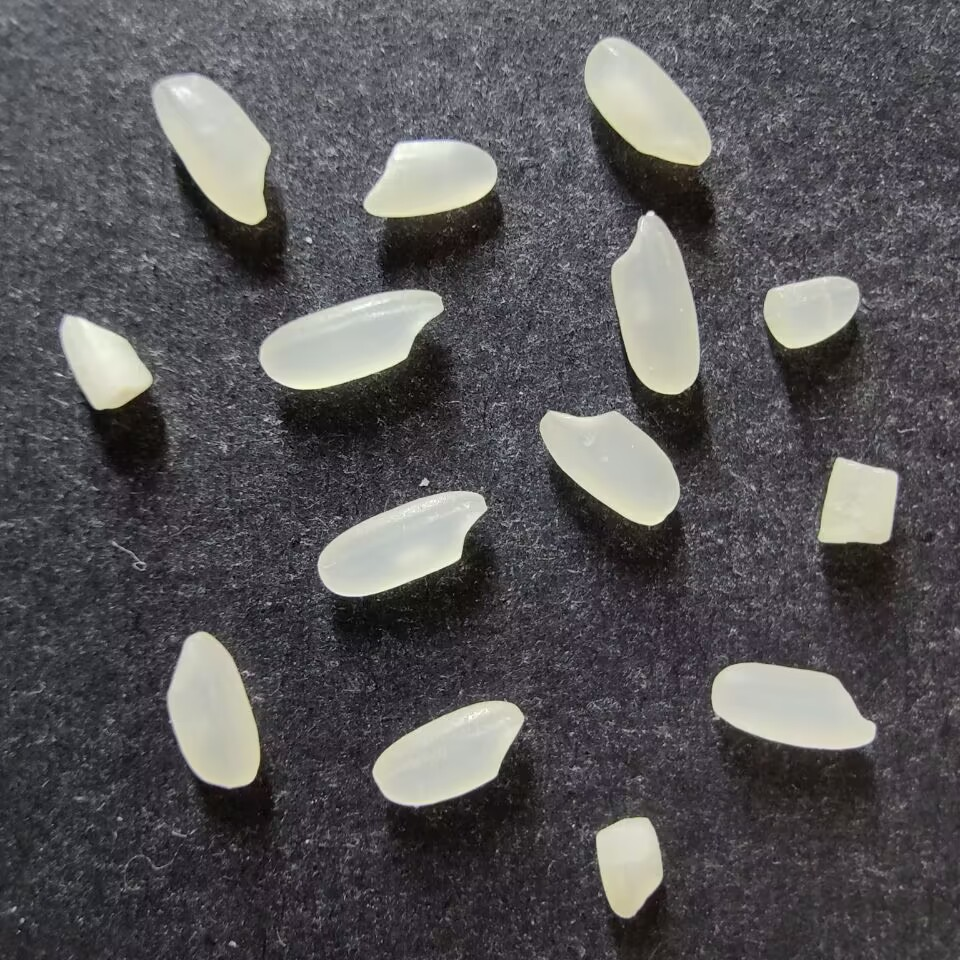broken: (59, 314, 152, 410), (594, 816, 664, 919), (816, 458, 899, 544), (762, 276, 859, 348)
rice: (257, 290, 444, 390), (316, 489, 487, 597), (151, 73, 271, 225), (609, 212, 700, 395), (538, 411, 681, 526), (371, 699, 523, 807), (582, 38, 711, 165), (165, 630, 261, 788), (710, 662, 877, 749), (362, 140, 497, 218)
